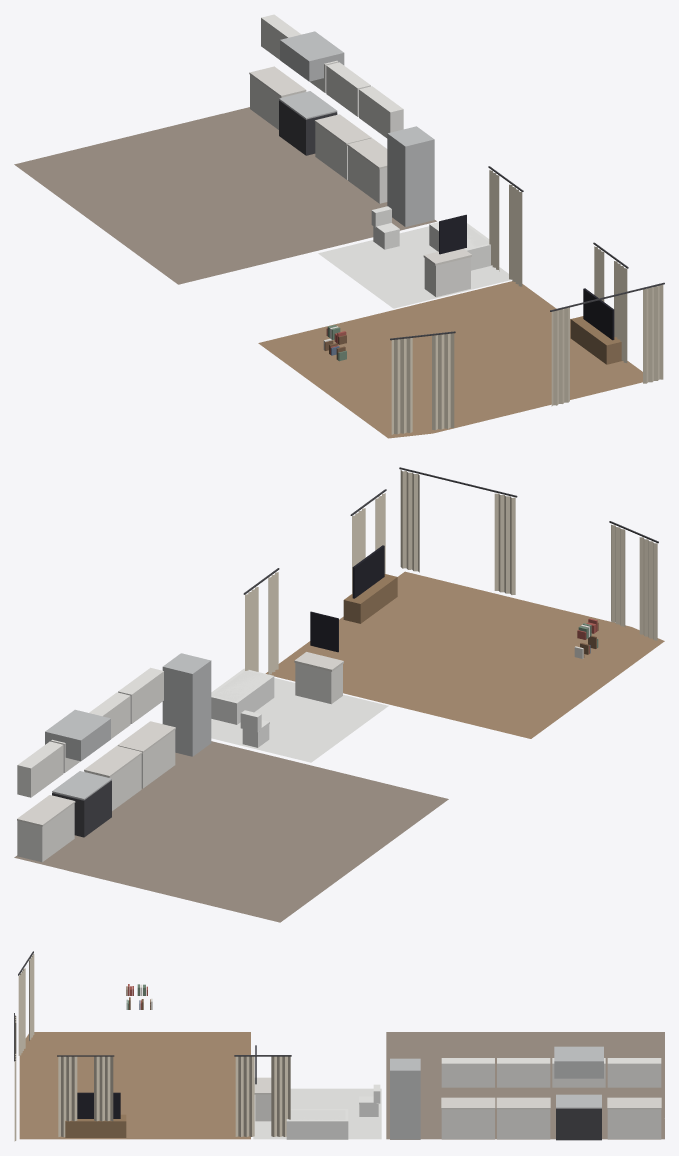
The model's file is fine-s1.glb.
The picture shows the model from 3 angles, top to bottom: view 1: azimuth 30°, elevation 25°; view 2: azimuth 150°, elevation 25°; view 3: azimuth 270°, elevation 25°; orthographic projection. The views are drawn at different scales.
Parts seen in each view (by area): view 1: soft-s1, range.000, fridge.000, vanity.000, tv-console.001, counter-run.002, counter-run.001, counter-run.000, kitchen-upper.003, kitchen-upper.002, bathtub.000, kitchen-upper.000 (+1 smaller); view 2: soft-s1, range.000, fridge.000, vanity.000, counter-run.000, tv-console.001, bathtub.000, counter-run.002, counter-run.001, kitchen-upper.000, kitchen-upper.003, kitchen-upper.002 (+1 smaller); view 3: soft-s1, range.000, fridge.000, counter-run.000, counter-run.001, counter-run.002, bathtub.000, tv-console.001, kitchen-upper.000, kitchen-upper.002, kitchen-upper.003, vanity.000 (+2 smaller).
Part boxes in pixels (x1=…): soft-s1: x1=14, y1=107, x2=664, y2=438; range.000: x1=279, y1=31, x2=344, y2=155; fridge.000: x1=387, y1=126, x2=434, y2=226; vanity.000: x1=423, y1=214, x2=471, y2=297; tv-console.001: x1=570, y1=288, x2=622, y2=364; counter-run.002: x1=347, y1=138, x2=387, y2=203; counter-run.001: x1=314, y1=114, x2=371, y2=179; counter-run.000: x1=249, y1=66, x2=306, y2=129; kitchen-upper.003: x1=359, y1=86, x2=403, y2=138; kitchen-upper.002: x1=326, y1=62, x2=370, y2=116; bathtub.000: x1=429, y1=222, x2=491, y2=270; kitchen-upper.000: x1=261, y1=14, x2=301, y2=59; soft-s1: x1=14, y1=467, x2=664, y2=922; range.000: x1=45, y1=709, x2=111, y2=837; fridge.000: x1=162, y1=653, x2=211, y2=756; vanity.000: x1=294, y1=611, x2=343, y2=704; counter-run.000: x1=17, y1=795, x2=75, y2=862; tv-console.001: x1=343, y1=545, x2=397, y2=623; bathtub.000: x1=211, y1=668, x2=274, y2=724; counter-run.002: x1=117, y1=721, x2=175, y2=788; counter-run.001: x1=84, y1=746, x2=142, y2=810; kitchen-upper.000: x1=17, y1=741, x2=63, y2=797; kitchen-upper.003: x1=118, y1=667, x2=163, y2=723; kitchen-upper.002: x1=89, y1=692, x2=130, y2=738; soft-s1: x1=14, y1=951, x2=664, y2=1141; range.000: x1=554, y1=1046, x2=603, y2=1140; fridge.000: x1=390, y1=1058, x2=420, y2=1139; counter-run.000: x1=607, y1=1097, x2=661, y2=1139; counter-run.001: x1=496, y1=1097, x2=550, y2=1139; counter-run.002: x1=441, y1=1097, x2=495, y2=1139; bathtub.000: x1=286, y1=1109, x2=348, y2=1139; tv-console.001: x1=65, y1=1092, x2=126, y2=1137; kitchen-upper.000: x1=607, y1=1058, x2=661, y2=1087; kitchen-upper.002: x1=497, y1=1058, x2=550, y2=1087; kitchen-upper.003: x1=441, y1=1058, x2=494, y2=1087; vanity.000: x1=254, y1=1045, x2=271, y2=1121.
Bounding box in the file's own units: 6.85 × 2.4 × 17.04.
